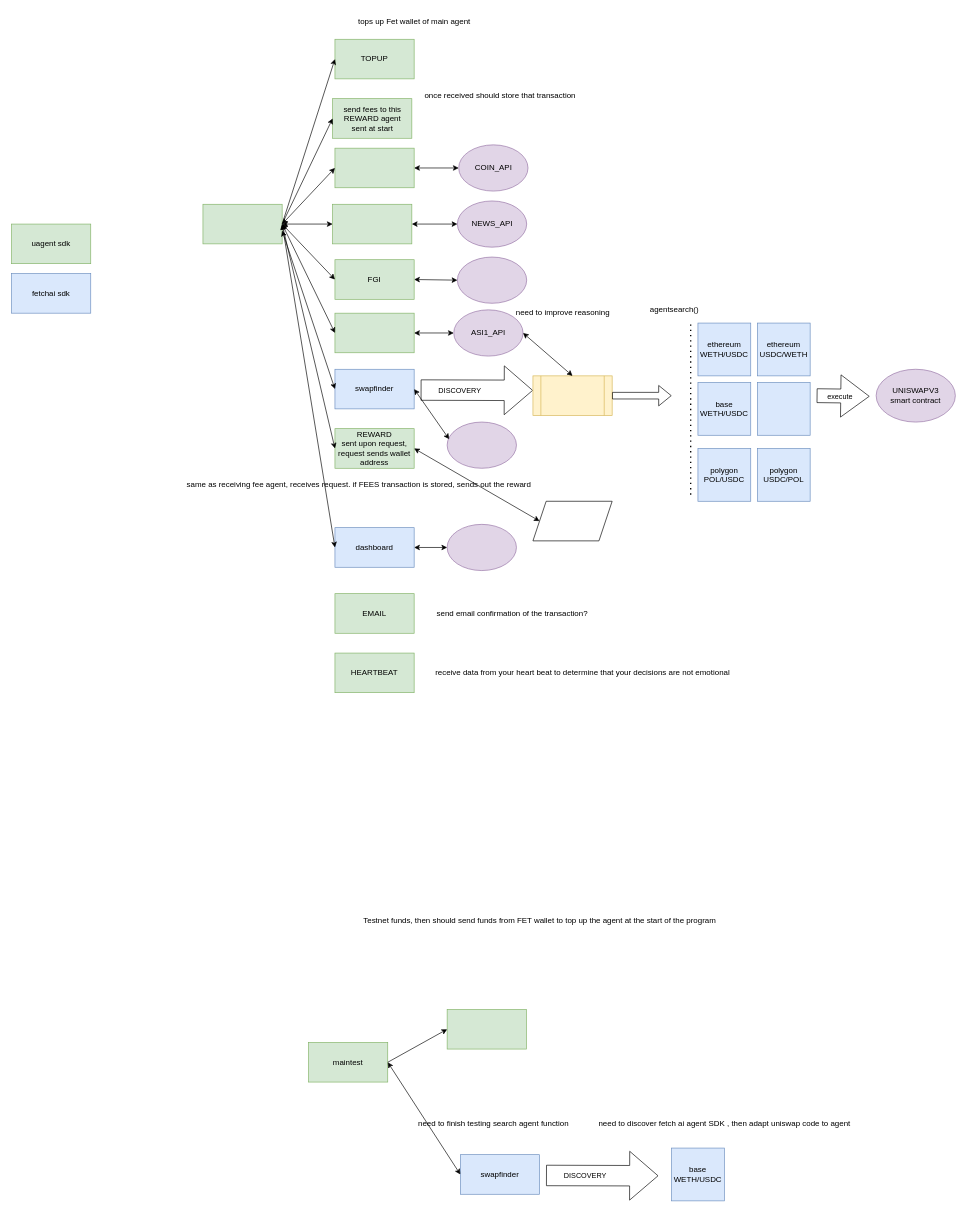
The diagram is 967 pixels wide and 1212 high, and some of its shapes have lost their labels. The centre of each missing label's shape, as x and y in pixels:
AGENTVERSE_ API: pixel 481 444
base USDC/WETH: pixel 783 408
COININFO: pixel 374 168
CRYPTO_API TOKEN/USDC: pixel 481 547
CRYPTONEWS: pixel 372 224
FGI_API: pixel 492 279
GET_FUNDS: pixel 486 1029
llm_swapfinder (query): pixel 572 395
main: pixel 242 224
REASON(ASI1): pixel 374 333
TOKEN smart contract: pixel 572 521
